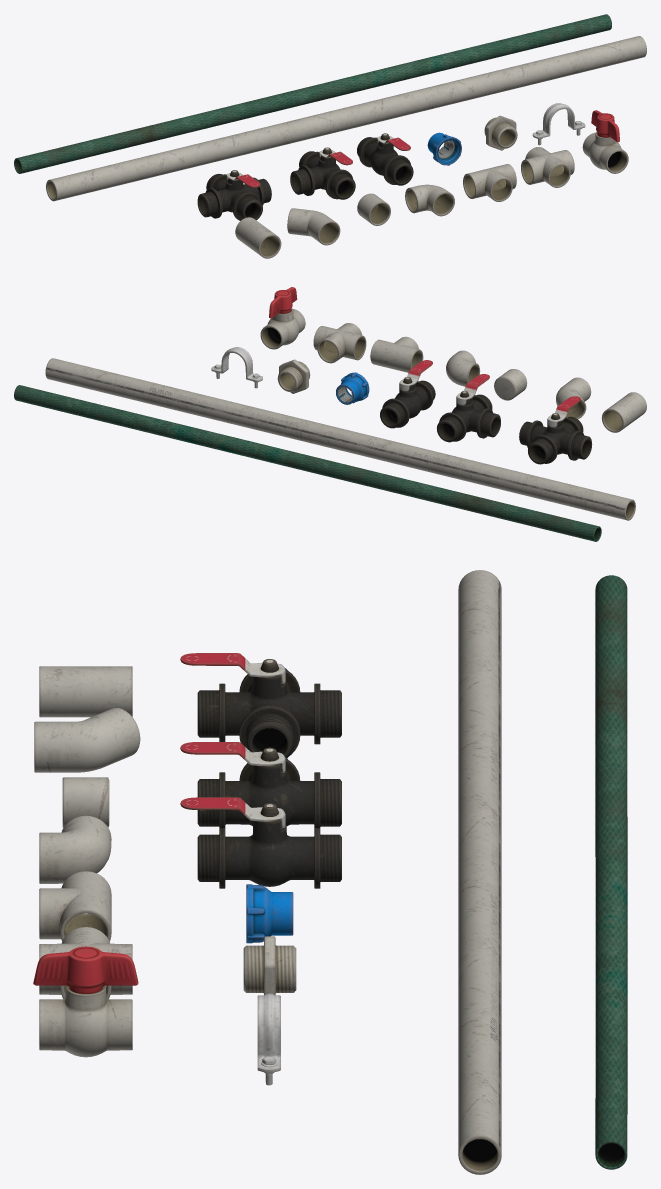
Rendered from AR-Code-1676875544451.glb.
3 views of the same model, one above another, from view 1: azimuth 30°, elevation 25°; view 2: azimuth 150°, elevation 25°; view 3: azimuth 270°, elevation 25° (orthographic). The views are drawn at different scales.
Visible parts, largest first — view 1: straight_pvc_pipe_01, garden_pipe, garden_pipe_connector_01, garden_pipe_connector_02, garden_pipe_connector_03, pvc_ball_valve, pvc_connector_01, pvc_connector_02, pvc_connector_05, pvc_connector_03, pvc_connector_06, pvc_connector_07 (+3 smaller); view 2: straight_pvc_pipe_01, garden_pipe, garden_pipe_connector_01, garden_pipe_connector_02, garden_pipe_connector_03, pvc_ball_valve, pvc_connector_01, pvc_connector_02, pvc_connector_06, pvc_connector_03, pvc_connector_07, pvc_connector_05 (+3 smaller); view 3: straight_pvc_pipe_01, garden_pipe, garden_pipe_connector_01, pvc_ball_valve, garden_pipe_connector_03, garden_pipe_connector_02, pvc_connector_05, pvc_connector_06, pvc_connector_02, pvc_connector_03, pvc_connector_07, garden_pipe_connector (+3 smaller).
Boxes of the visible parts, box(x1,y1,x2,y2) form: straight_pvc_pipe_01: box(46, 36, 646, 201); garden_pipe: box(14, 14, 611, 173); garden_pipe_connector_01: box(197, 170, 271, 220); garden_pipe_connector_02: box(290, 147, 355, 199); garden_pipe_connector_03: box(357, 133, 413, 185); pvc_ball_valve: box(582, 110, 628, 173); pvc_connector_01: box(521, 147, 574, 187); pvc_connector_02: box(463, 164, 516, 201); pvc_connector_05: box(287, 208, 340, 245); pvc_connector_03: box(405, 184, 454, 216); pvc_connector_06: box(235, 217, 281, 258); pvc_connector_07: box(484, 115, 517, 150); straight_pvc_pipe_01: box(45, 358, 635, 520); garden_pipe: box(14, 385, 601, 541); garden_pipe_connector_01: box(519, 396, 592, 464); garden_pipe_connector_02: box(436, 374, 500, 442); garden_pipe_connector_03: box(380, 360, 435, 428); pvc_ball_valve: box(260, 287, 305, 349); pvc_connector_01: box(313, 323, 366, 363); pvc_connector_02: box(370, 336, 423, 372); pvc_connector_06: box(601, 392, 646, 432); pvc_connector_03: box(446, 350, 480, 386); pvc_connector_07: box(277, 359, 310, 393); pvc_connector_05: box(556, 377, 591, 419); straight_pvc_pipe_01: box(458, 570, 501, 1174); garden_pipe: box(595, 575, 627, 1169); garden_pipe_connector_01: box(180, 653, 341, 757); pvc_ball_valve: box(33, 946, 138, 1057); garden_pipe_connector_03: box(180, 797, 341, 888); garden_pipe_connector_02: box(180, 742, 341, 827); pvc_connector_05: box(34, 708, 140, 772); pvc_connector_06: box(39, 666, 132, 717); pvc_connector_02: box(39, 871, 111, 941); pvc_connector_03: box(39, 815, 111, 883); pvc_connector_07: box(243, 936, 296, 995); garden_pipe_connector: box(246, 884, 293, 943).
Bounding box in the file's own units: 0.8157 × 0.0757 × 0.3618.
Materials: 1 (1 with a texture image).
